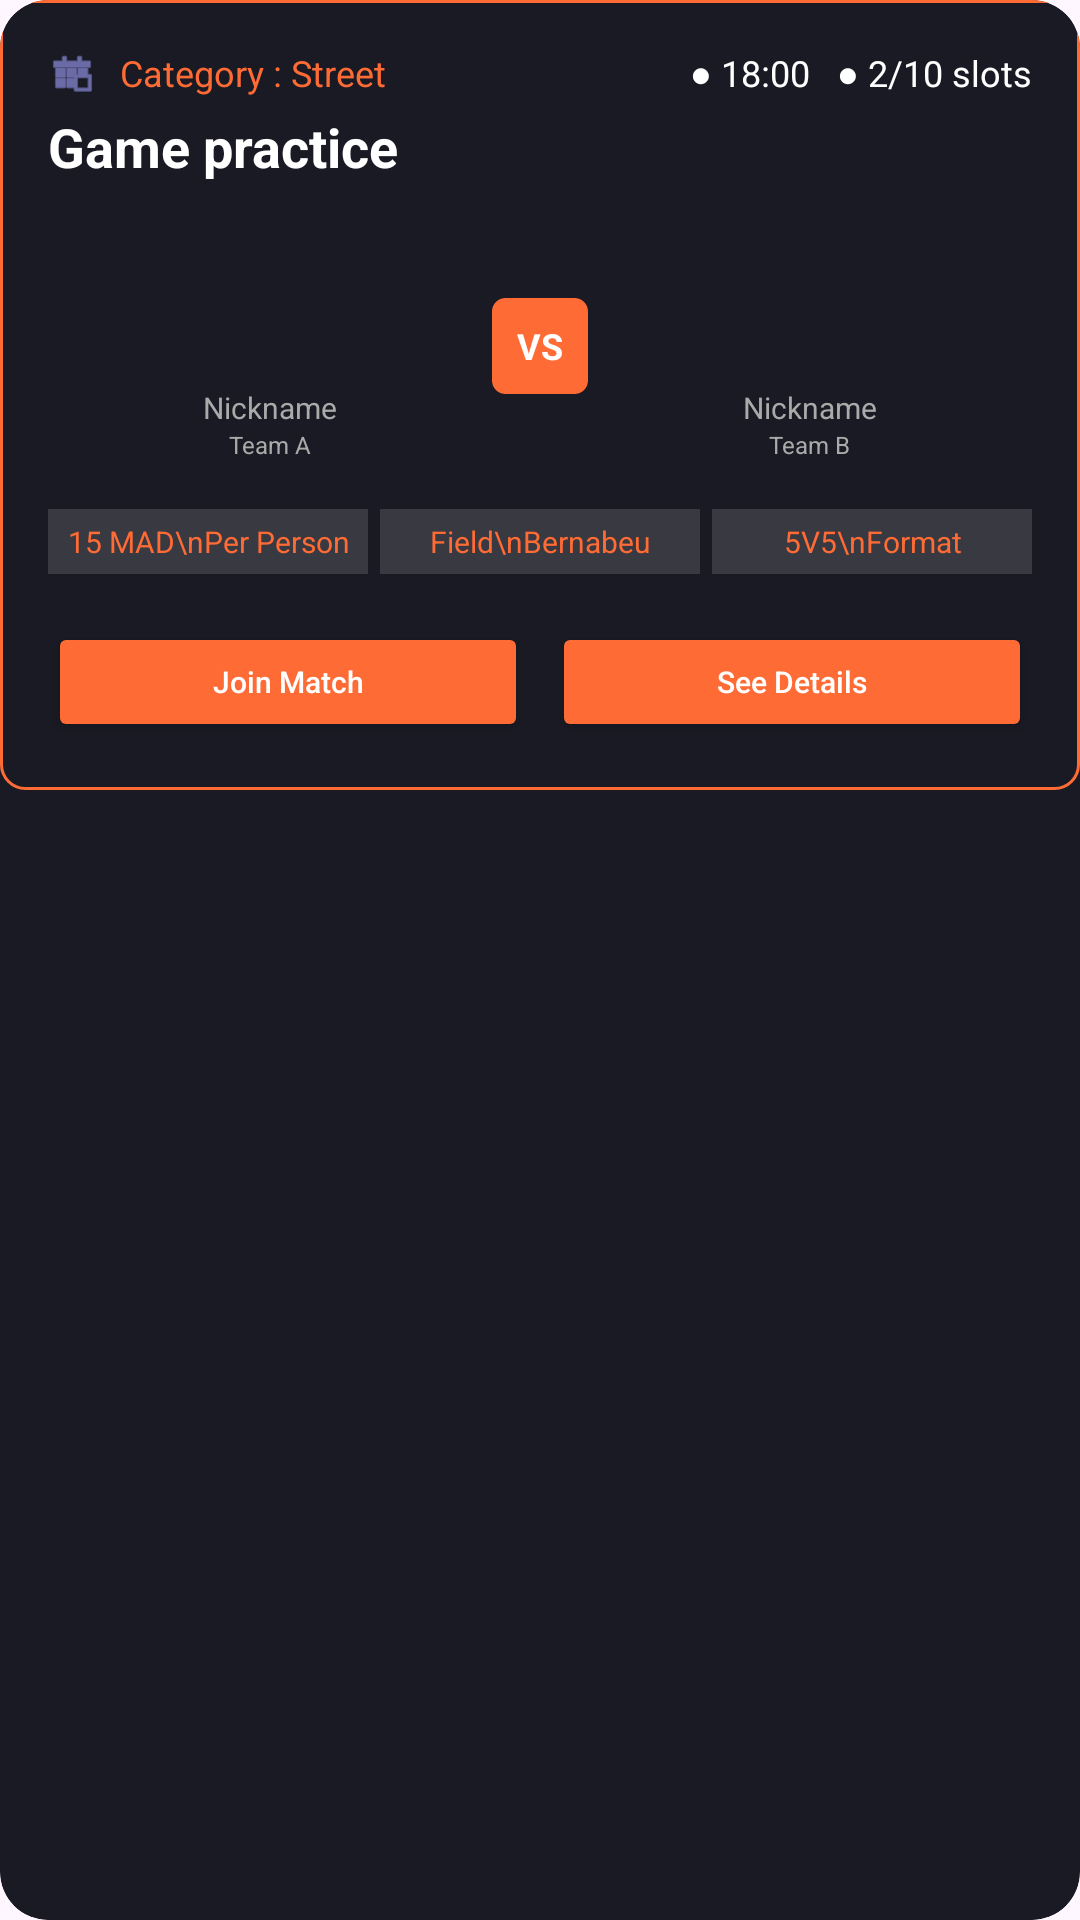

Icon bounding boxes for this 1080 × 1920 phone screenshot, format (x1, y1, x2, y2):
today: (53, 55, 92, 92)
